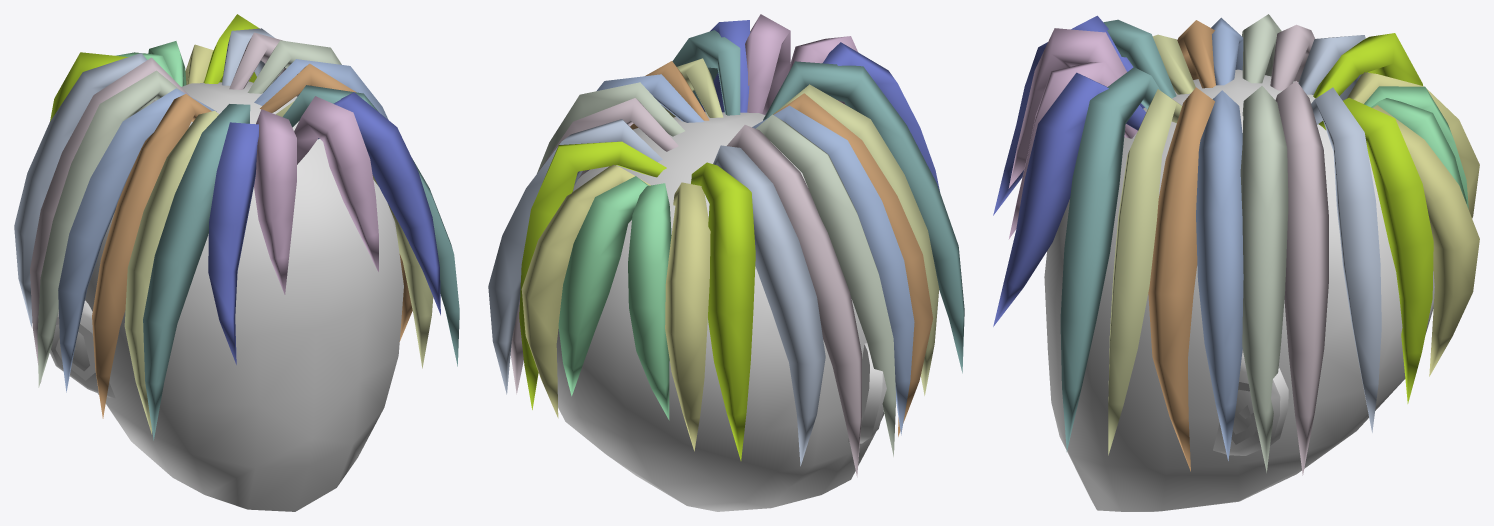
The model's file is Hair8.glb.
The picture shows the model from 3 angles, left to right: view 1: azimuth 30°, elevation 25°; view 2: azimuth 150°, elevation 25°; view 3: azimuth 270°, elevation 25°; orthographic projection. The views are drawn at different scales.
Parts seen in each view (by area): view 1: Head; view 2: Head; view 3: Head.
Boxes of the visible parts, x1,y1,x2,y2 form: Head: (14,14,459,511); Head: (488,14,964,511); Head: (993,14,1479,511).
Size of the model in its own units: 0.623 by 0.6729 by 0.6572.
